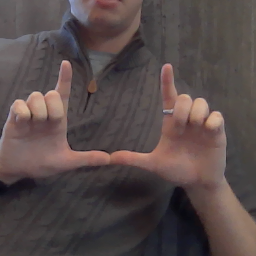U: (5, 56, 231, 192)
